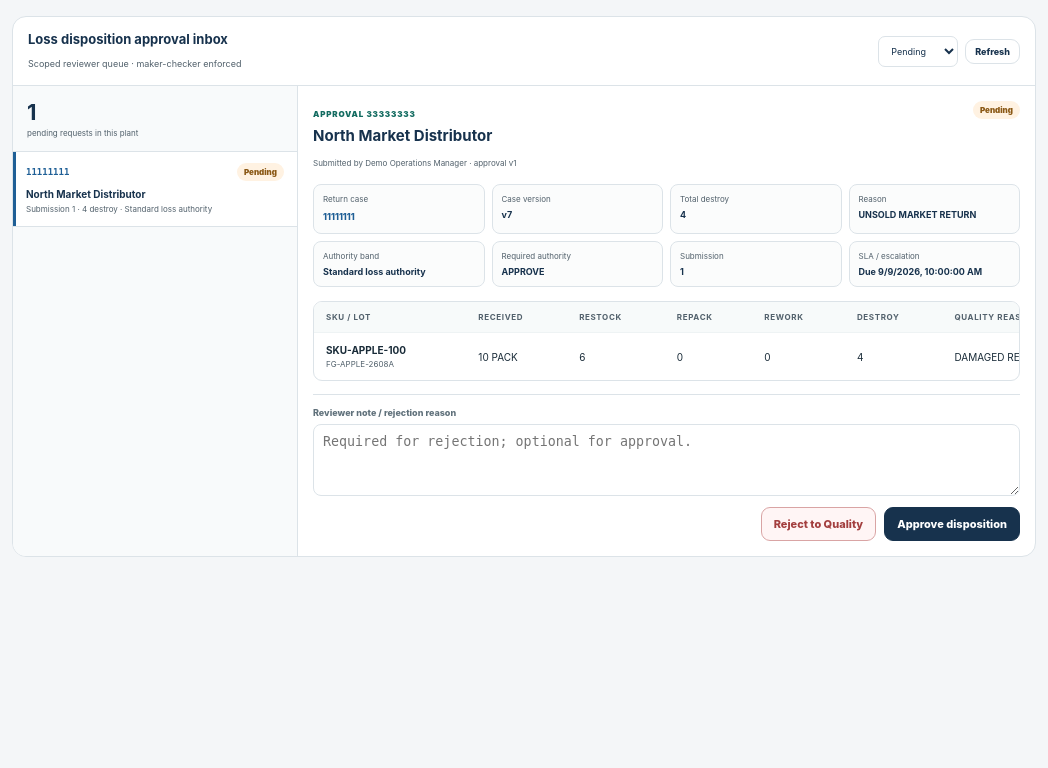
Scenario: UnsoldReturnApprovalInbox › submits a maker-checker approval with the current approval version
Expected: the button that starts with "Pending" is shown, [13, 152, 297, 227]
Expected: the text "Submitted by Demo Operations Manager · approval v1" is shown, [313, 158, 516, 168]
In the text box labelled "Reviewer note / rejection reason": (666,460) [313, 424, 1020, 496], type "Reviewed by Finance"
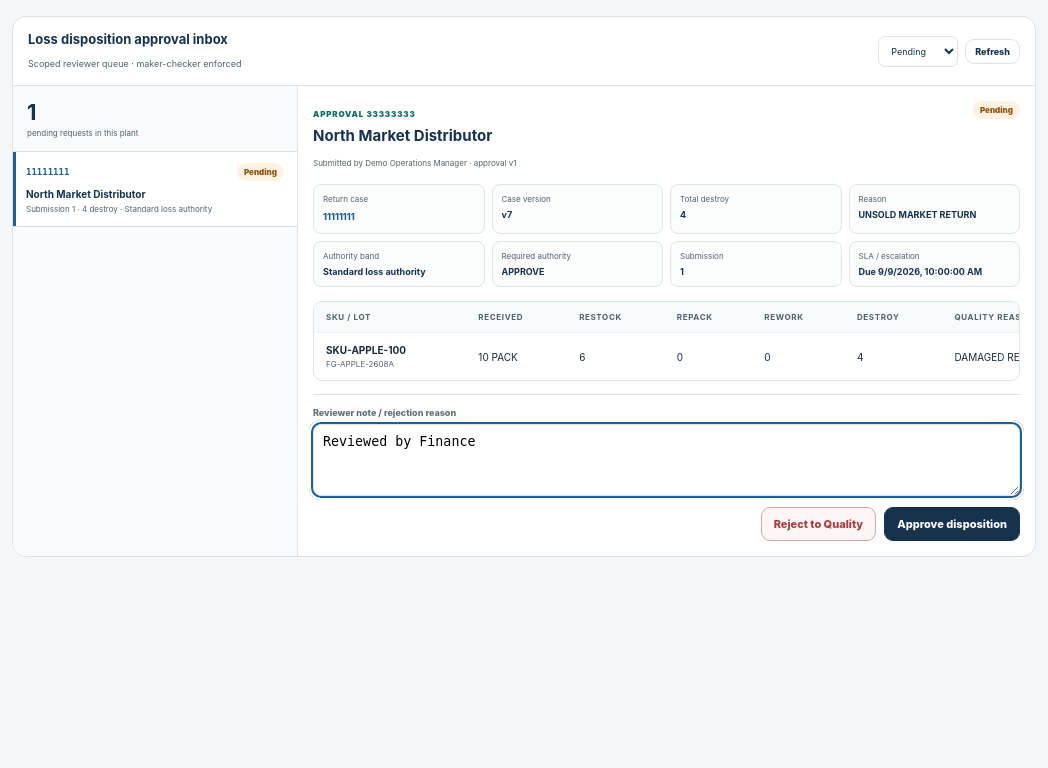
Click the button "Approve disposition": (952,524) [884, 507, 1020, 541]
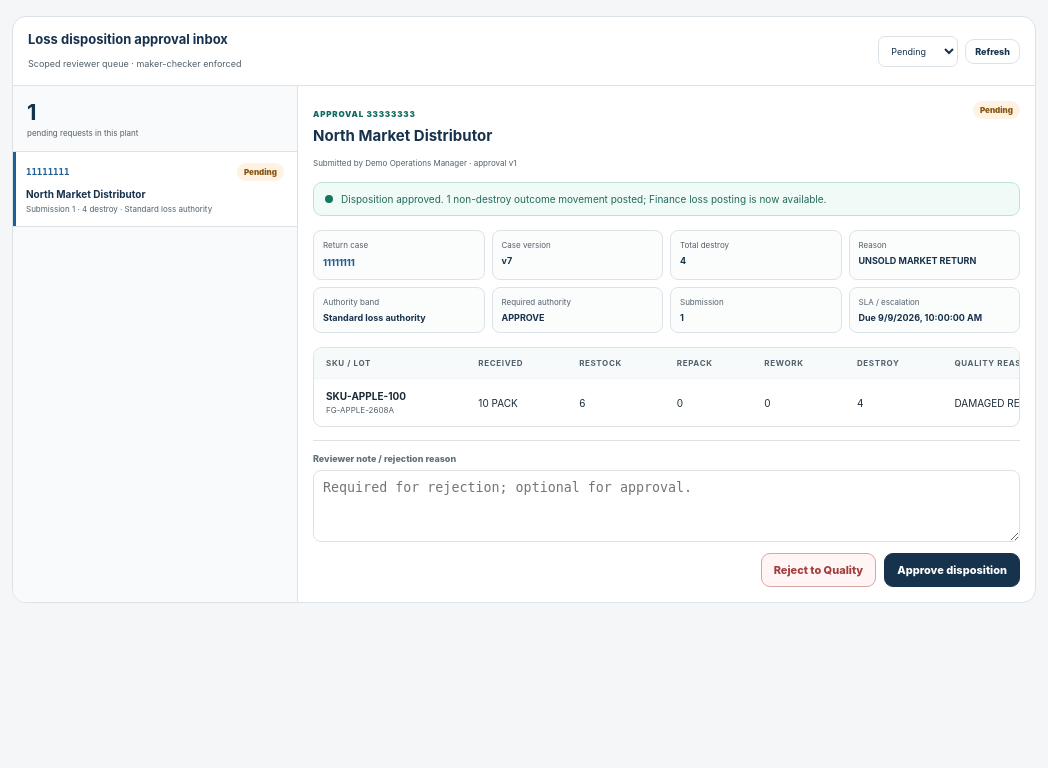
Result: the message shows "Disposition approved" at [341, 193, 826, 205]
